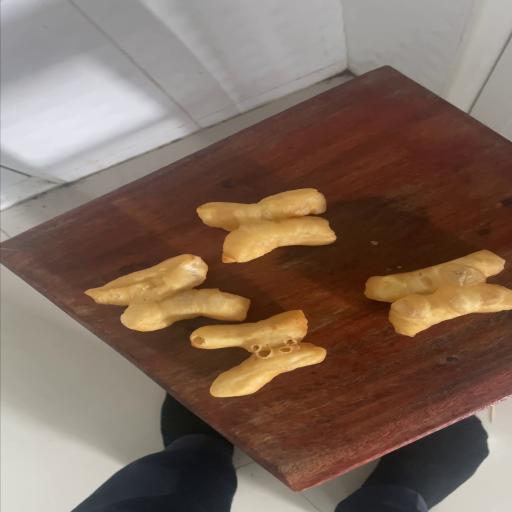street_golden_defect: (362, 251, 512, 336), (84, 256, 250, 330), (189, 311, 324, 397)
street_golden_good: (198, 188, 336, 263)
